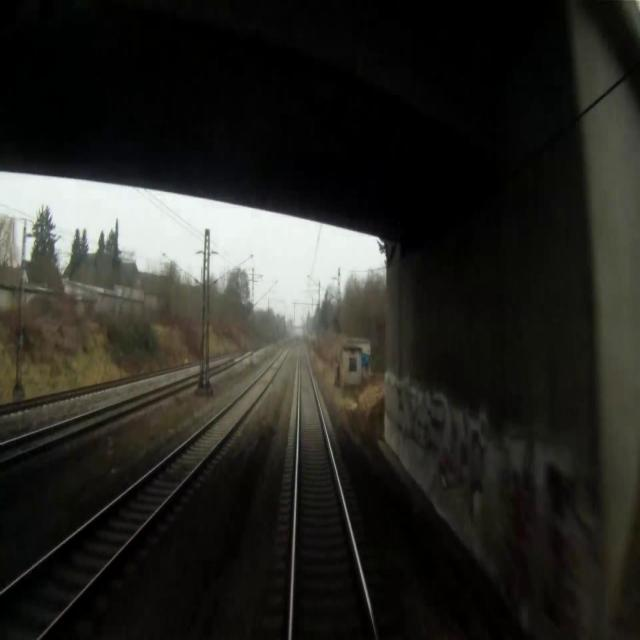rail-track: (0, 350, 287, 639), (295, 340, 373, 639), (0, 385, 174, 457)
